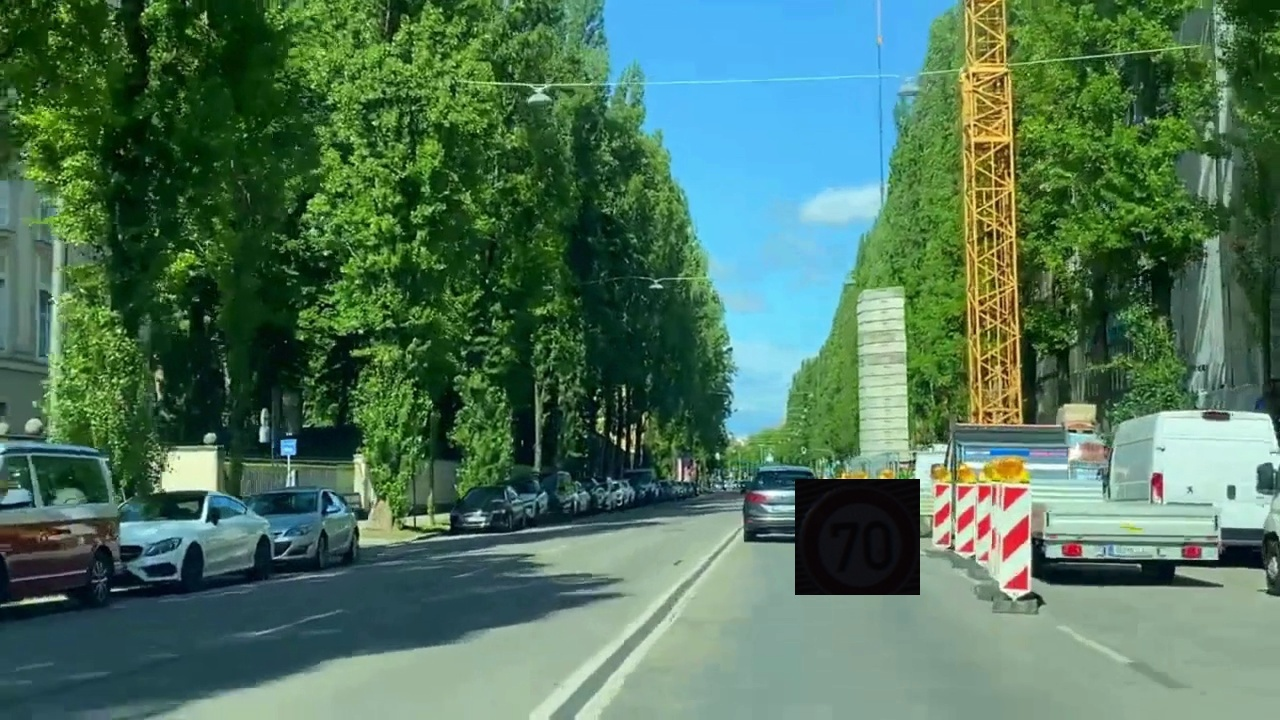Speed 70: (795, 479, 920, 595)
